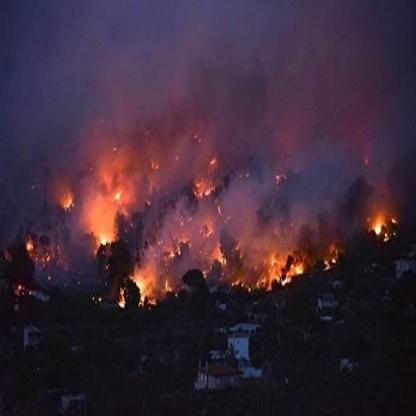fire: (26, 134, 398, 299)
smoke: (49, 4, 400, 146)
